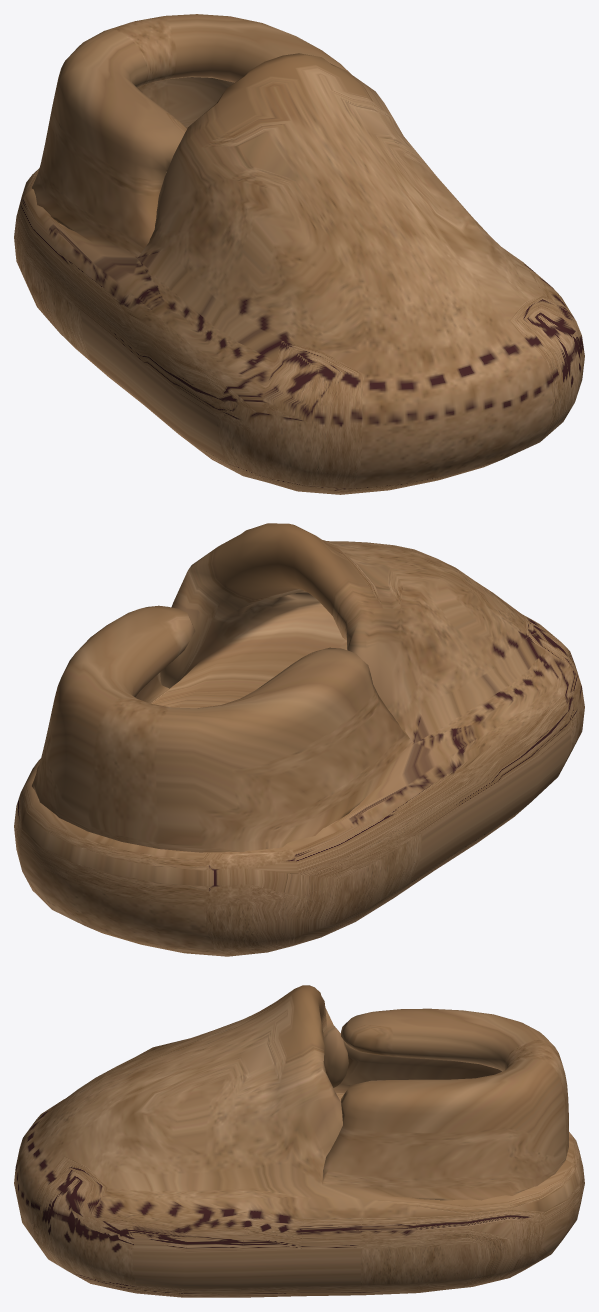
Rendered from oneMoc.glb.
3 views of the same model, one above another, from view 1: azimuth 30°, elevation 25°; view 2: azimuth 150°, elevation 25°; view 3: azimuth 270°, elevation 25° (orthographic). The views are drawn at different scales.
Parts seen in each view (by area): view 1: pCube1; view 2: pCube1; view 3: pCube1.
Boxes of the visible parts, x1,y1,x2,y2 form: pCube1: [14, 14, 584, 494]; pCube1: [14, 523, 584, 956]; pCube1: [14, 985, 584, 1297].
Size of the model in its own units: 0.7059 by 0.6198 by 1.21.
Materials: 1 (1 with a texture image).
